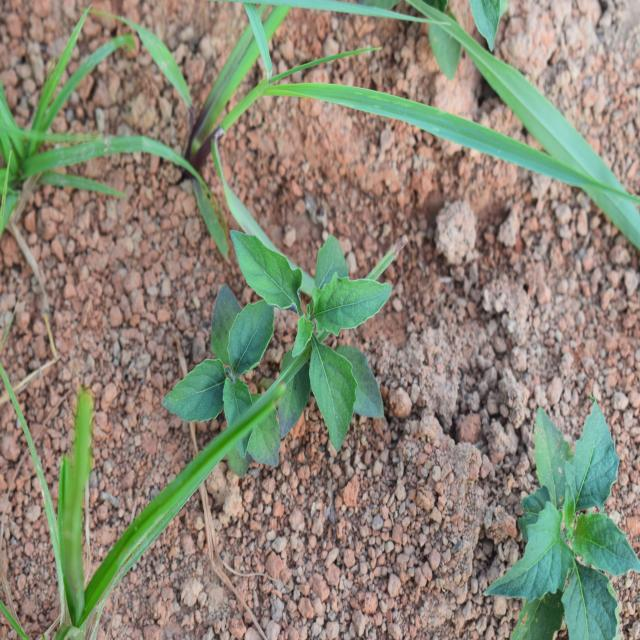Black_nightshade: (504, 380, 640, 639), (195, 223, 304, 498), (273, 238, 404, 439)
